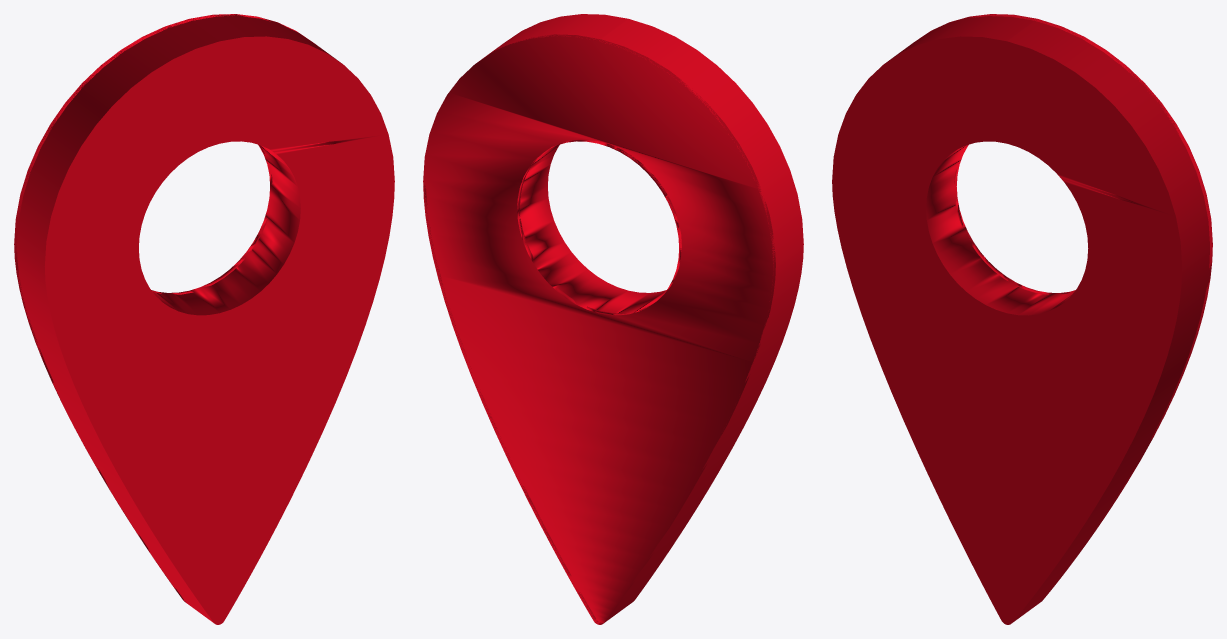
File: pin.gltf
3 views of the same model, side by side, from view 1: azimuth 30°, elevation 25°; view 2: azimuth 150°, elevation 25°; view 3: azimuth 330°, elevation 25° (orthographic).
Visible parts, largest first — view 1: Curve; view 2: Curve; view 3: Curve.
Boxes of the visible parts, box(x1,y1,x2,y2) form: Curve: box(14, 14, 394, 624); Curve: box(423, 14, 803, 624); Curve: box(832, 14, 1212, 624).
Bounding box in the file's own units: 0.3774 × 0.601 × 0.0573.
